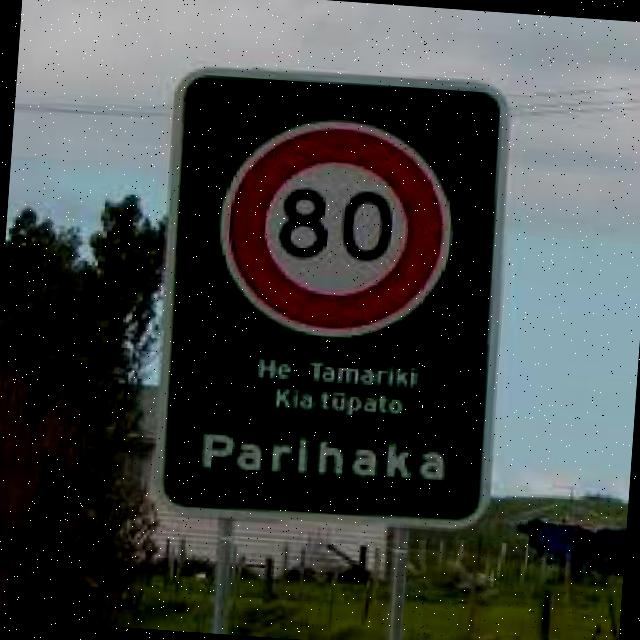Ograniczenie predkosci do 80: (219, 112, 451, 344)
